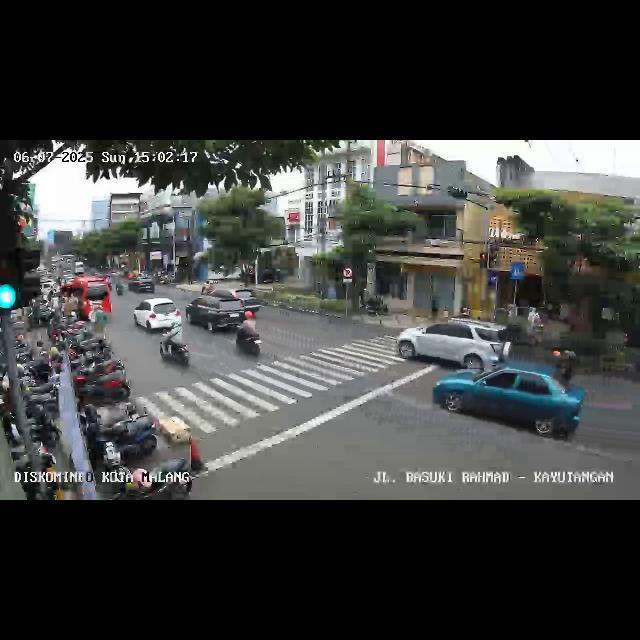car: (436, 365, 588, 443), (398, 316, 514, 372), (185, 292, 253, 334), (62, 276, 112, 320), (132, 297, 182, 335), (208, 288, 264, 316), (128, 274, 156, 294)
motorcycle: (159, 322, 193, 371), (234, 311, 264, 357), (550, 344, 574, 378), (114, 274, 126, 296)
